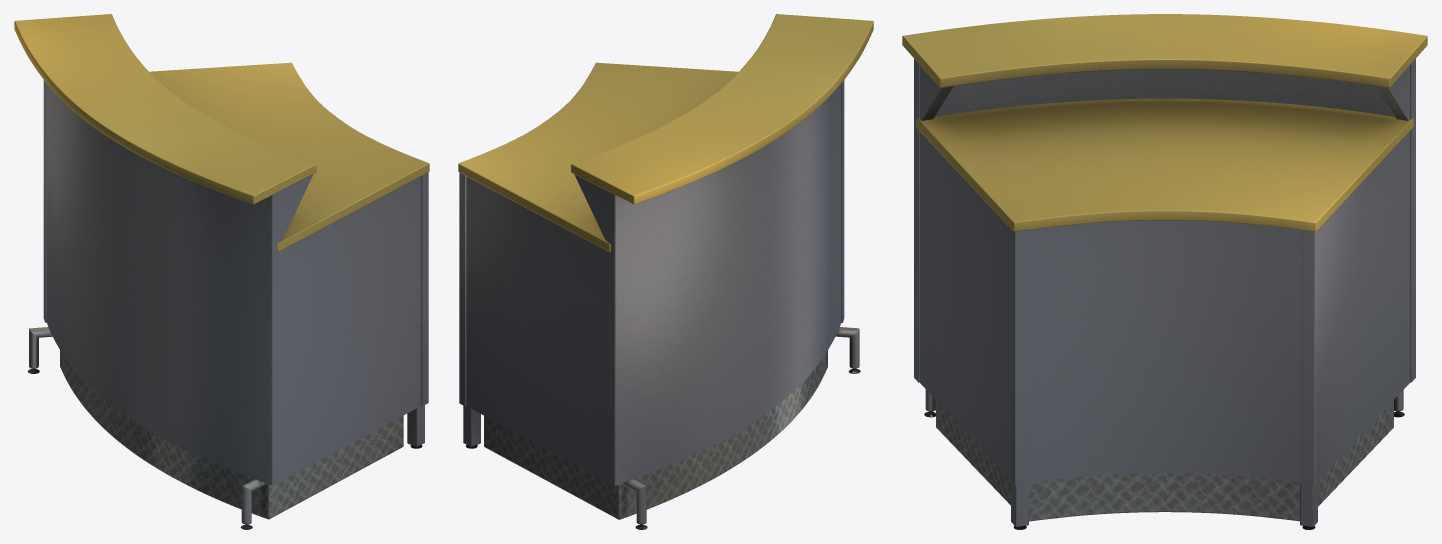
The model's file is piana_white_wood.glb.
The picture shows the model from 3 angles, left to right: view 1: azimuth 30°, elevation 25°; view 2: azimuth 150°, elevation 25°; view 3: azimuth 270°, elevation 25°; orthographic projection. The views are drawn at different scales.
Parts seen in each view (by area): view 1: 9247-beech; view 2: 9247-beech; view 3: 9247-beech.
Boxes of the visible parts, left/top/right/bottom form: 9247-beech: left=14, top=14, right=429, bottom=529; 9247-beech: left=458, top=14, right=873, bottom=529; 9247-beech: left=902, top=14, right=1427, bottom=529.
Bounding box in the file's own units: 0.9327 × 1.14 × 1.44.
1 material, 1 textured.
